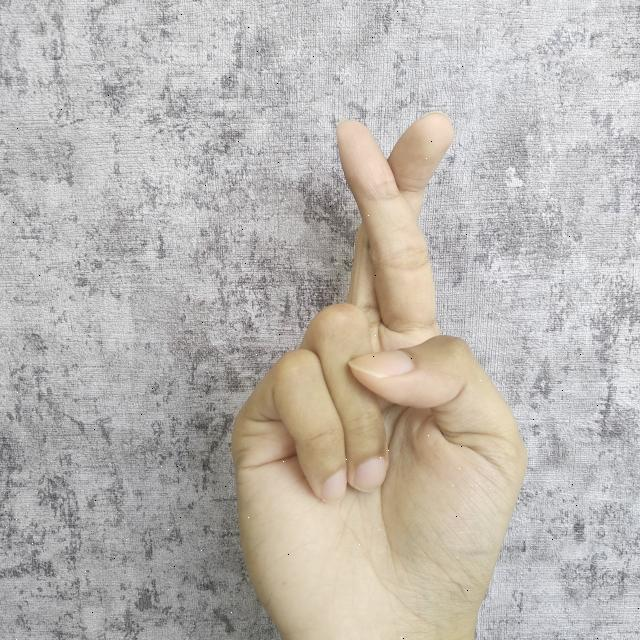R: (223, 103, 541, 640)
